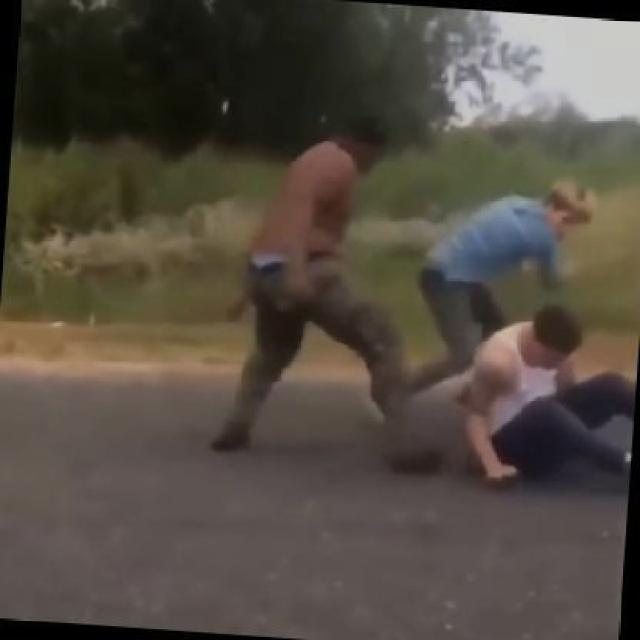fight: (183, 115, 639, 531)
